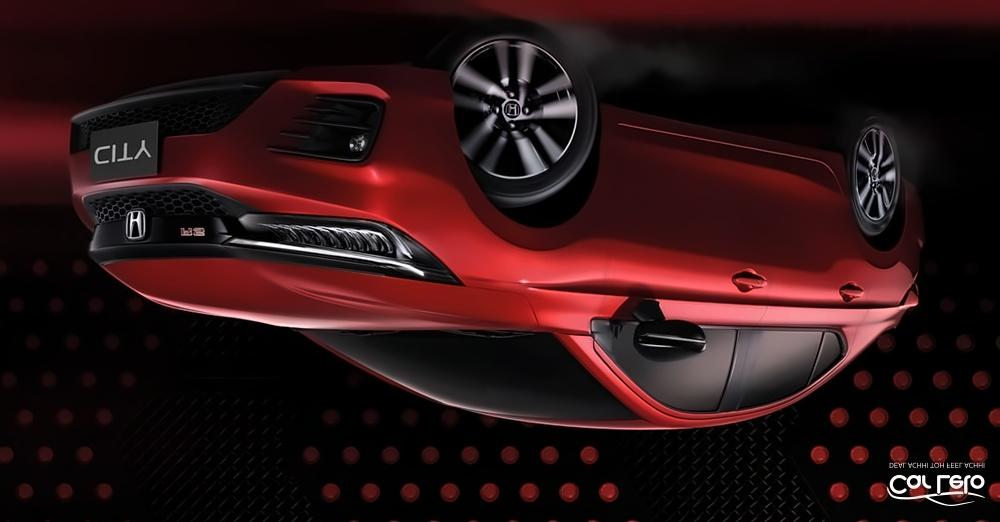Car hood: (93, 253, 545, 335)
Driver-s door - -F-R-: (608, 107, 760, 433)
Fender - -F-R-: (433, 101, 628, 336)
Fender - -R-R-: (824, 140, 918, 307)
Front bumper: (61, 57, 478, 223)
Headlight - -R-: (218, 201, 434, 281)
Passenger-s door - -R-R-: (756, 138, 870, 429)
Rear bumper: (900, 170, 942, 251)
Side bumper - -R-: (596, 93, 852, 181)
Side mirror - -R-: (625, 292, 711, 366)
